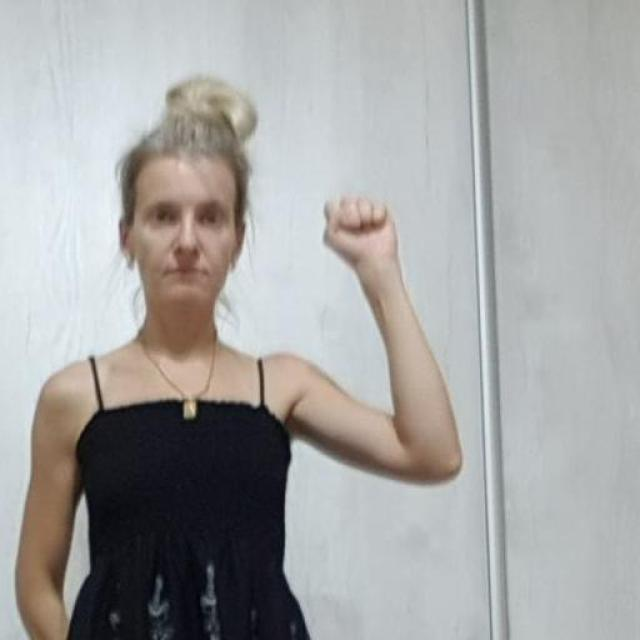hand: (322, 192, 402, 272)
